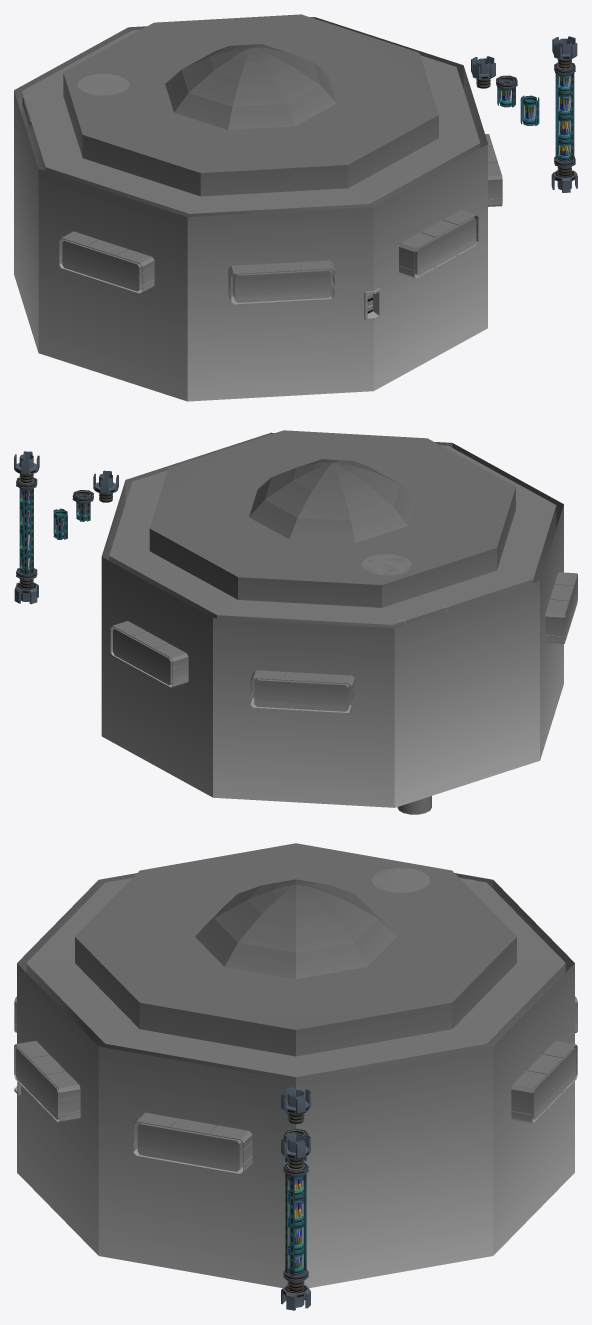
Rendered from ReactorNuclear.fbx.
3 renders of one model, top to bottom at view 1: azimuth 30°, elevation 25°; view 2: azimuth 150°, elevation 25°; view 3: azimuth 270°, elevation 25°, orthographic. The views are drawn at different scales.
Visible parts, largest first — view 1: DomoReactor, Object149, Object150, Object156, Line113, Object155, Pilar004, Pilar01, Pilar007, Pilar02; view 2: DomoReactor, Object152, Object153, Object150, Line113, Pilar004, Pilar01, Pilar007, Pilar02; view 3: DomoReactor, Object155, Object153, Object156, Line113, Pilar004, Pilar01, Pilar007, Pilar008, Pilar005.
Part boxes in pixels (box(x1,y1,x2,y2)): DomoReactor: box(14, 14, 487, 401); Object149: box(228, 260, 334, 304); Object150: box(59, 231, 154, 293); Object156: box(399, 210, 478, 278); Line113: box(77, 73, 129, 95); Object155: box(485, 134, 502, 206); Pilar004: box(552, 36, 577, 68); Pilar01: box(471, 56, 495, 88); Pilar007: box(551, 166, 577, 192); Pilar02: box(496, 75, 517, 107); DomoReactor: box(101, 430, 563, 807); Object152: box(250, 670, 354, 713); Object153: box(110, 621, 188, 687); Object150: box(545, 572, 577, 643); Line113: box(361, 554, 431, 814); Pilar004: box(14, 451, 39, 483); Pilar01: box(93, 470, 118, 502); Pilar007: box(14, 579, 38, 604); Pilar02: box(72, 490, 93, 521); DomoReactor: box(17, 843, 574, 1288); Object155: box(133, 1112, 252, 1174); Object153: box(511, 1041, 577, 1123); Object156: box(14, 1041, 80, 1123); Line113: box(371, 868, 429, 892); Pilar004: box(281, 1132, 310, 1169); Pilar01: box(281, 1087, 310, 1124); Pilar007: box(281, 1281, 310, 1310); Pilar008: box(283, 1248, 308, 1281); Pilar005: box(283, 1162, 308, 1197).
Bounding box in the file's own units: 1829 × 958 × 1455.
2 materials, 1 textured.
